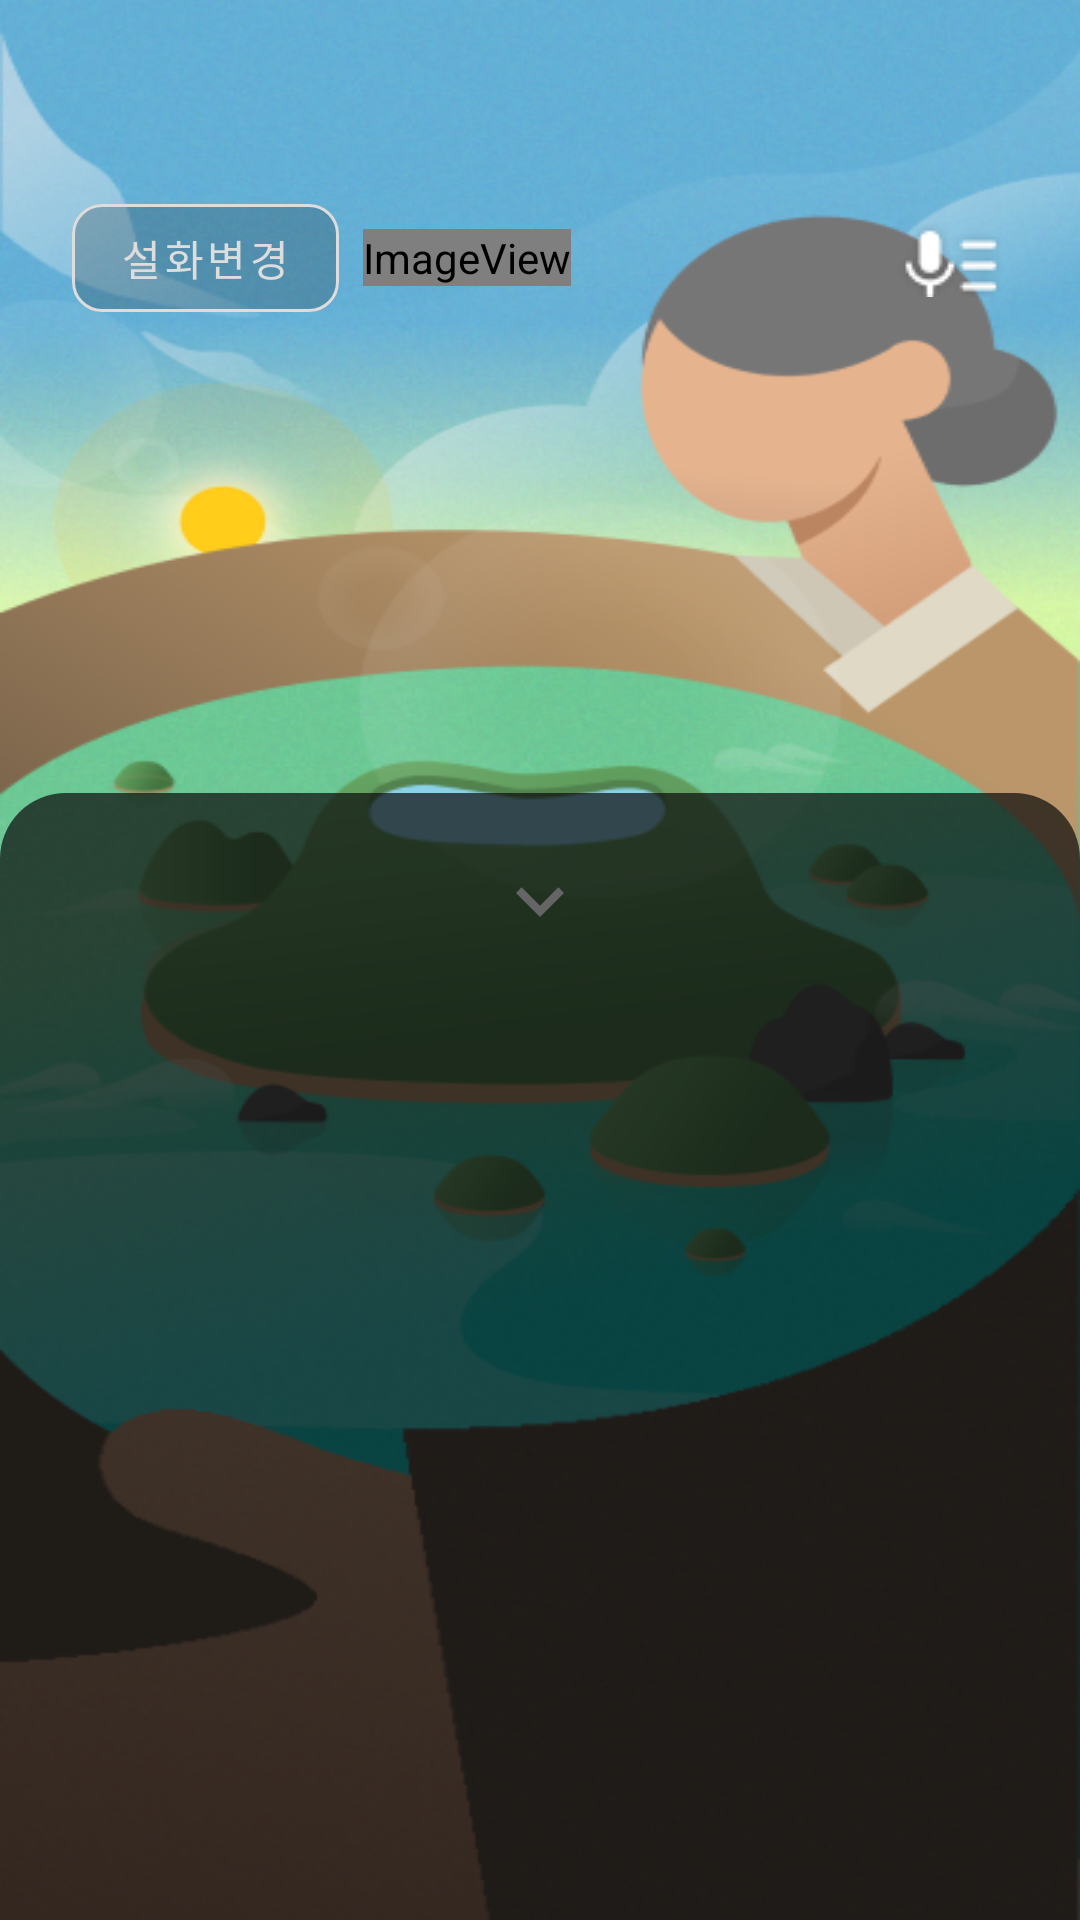

Screen size 1080px×1920px. Icon name, then its center in pixels as (x,y):
keyboard arrow down: (540,902)
mic: (951,258)
